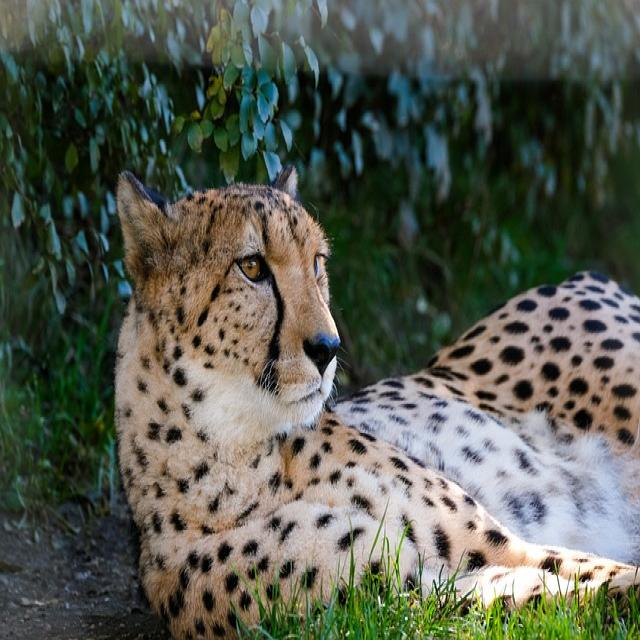Carnivorous: (115, 172, 640, 640)
